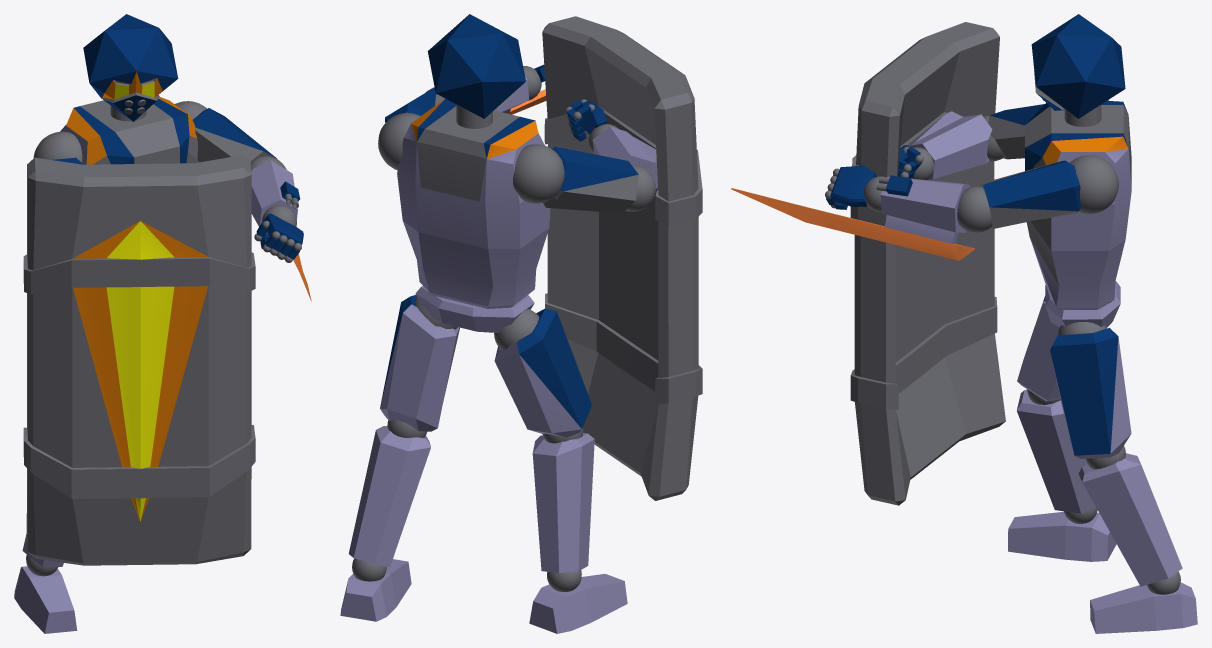
File: brusier.fbx
The picture shows the model from 3 angles, left to right: view 1: azimuth 30°, elevation 25°; view 2: azimuth 150°, elevation 25°; view 3: azimuth 270°, elevation 25°; orthographic projection. The views are drawn at different scales.
Visible parts, largest first — view 1: polySurface302; view 2: polySurface302; view 3: polySurface302.
Part boxes in pixels (x1,y1,x2,y2): polySurface302: (14,14,311,633); polySurface302: (340,14,702,633); polySurface302: (731,14,1197,633).
Bounding box in the file's own units: 6.63 × 13.38 × 9.95.
